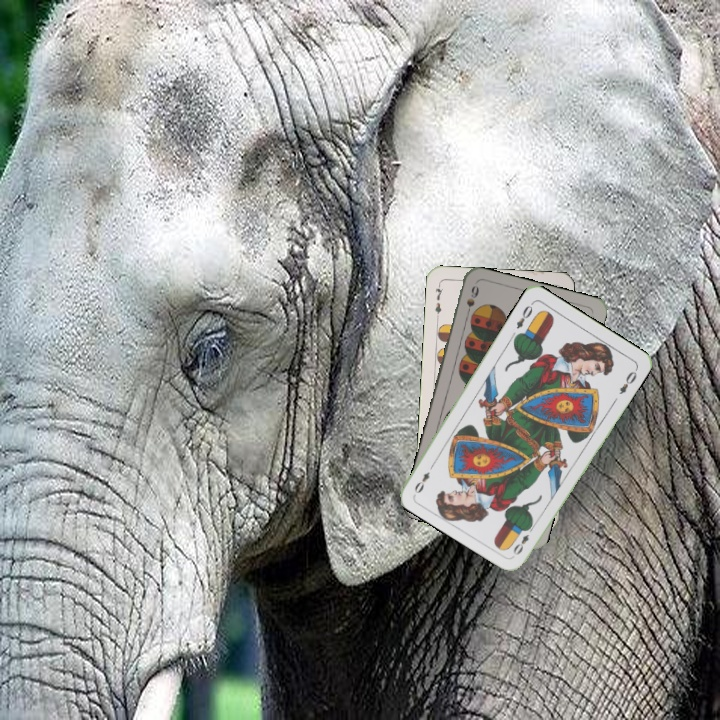E7: (431, 280, 445, 321)
EO: (509, 522, 537, 558), (512, 301, 535, 331)
S9: (462, 281, 482, 321)
